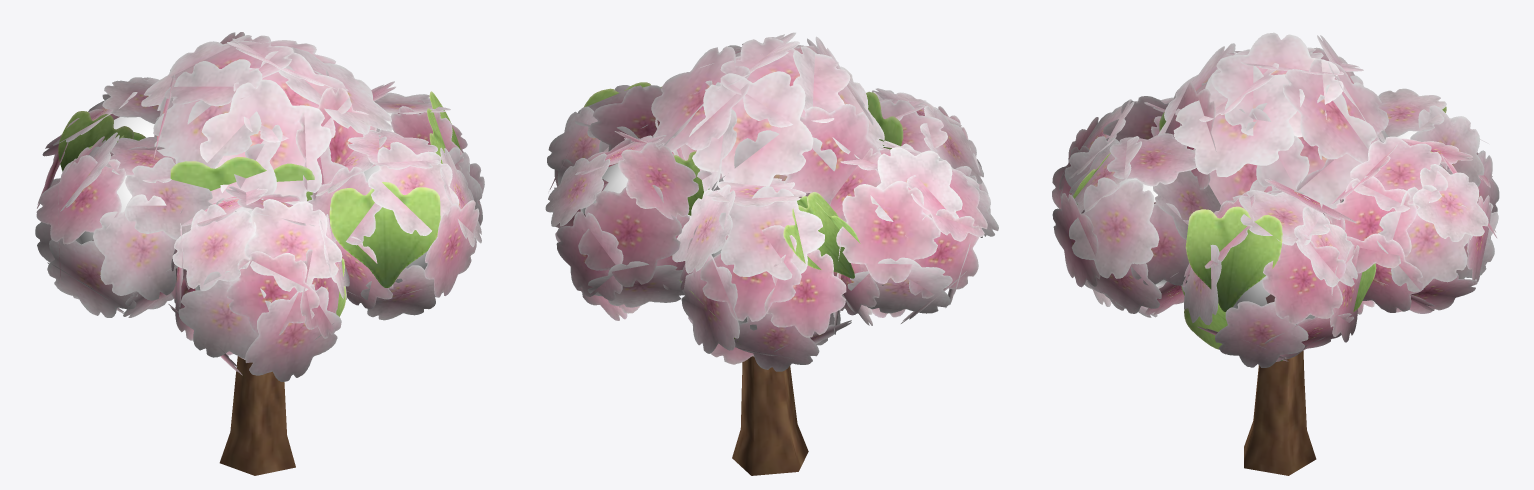
File: tree-wide-blossom.lod1.glb
The picture shows the model from 3 angles, left to right: view 1: azimuth 30°, elevation 25°; view 2: azimuth 150°, elevation 25°; view 3: azimuth 270°, elevation 25°; orthographic projection.
Parts seen in each view (by area): view 1: Crown, Trunk, Hull; view 2: Crown, Trunk, Hull; view 3: Crown, Trunk, Hull.
Part boxes in pixels (x1,y1,x2,y2): Crown: [35, 32, 484, 381]; Trunk: [219, 356, 295, 475]; Hull: [75, 113, 427, 290]; Crown: [545, 32, 998, 371]; Trunk: [732, 356, 808, 475]; Hull: [580, 156, 939, 330]; Crown: [1052, 32, 1499, 367]; Trunk: [1244, 351, 1316, 475]; Hull: [1120, 131, 1417, 324].
Size of the model in its own units: 3.39 by 3.14 by 3.24.
Materials: 3 (2 with a texture image).
